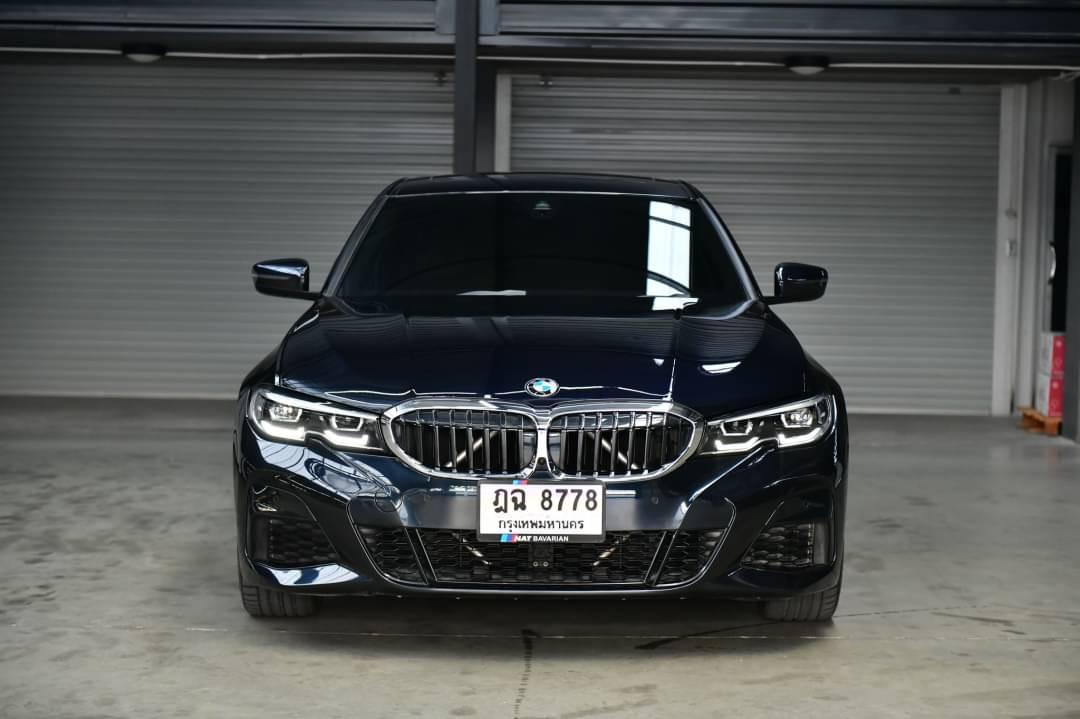license-plate: (478, 477, 606, 541)
